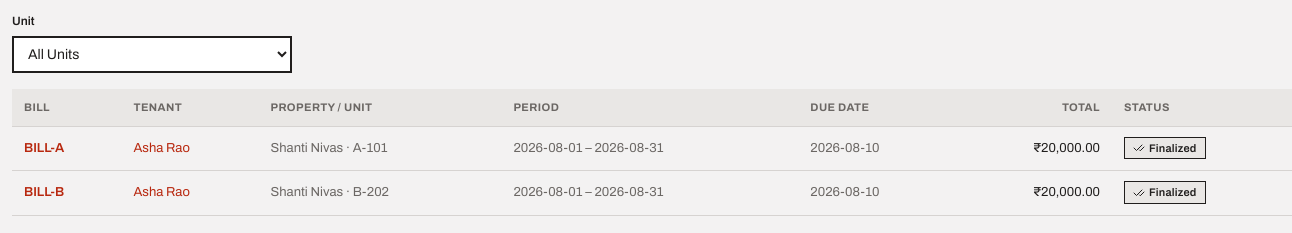
it: TenantBillsPanel — P6.3-E: tenant-wide aggregate by default, Unit filter as an option, never duplicated data › filters to only the selected unit's bills, without re-fetching or duplicating any bill row
Select "Shanti Nivas · A-101" in the dropdown labelled "Unit" at (152, 54), box [12,36,292,73]
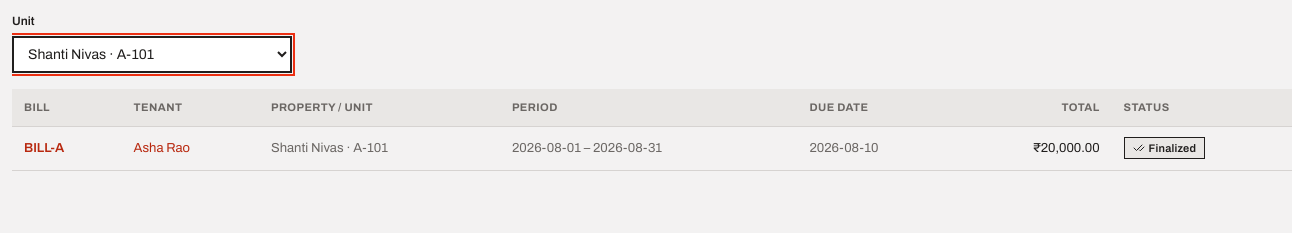
Check: the link "BILL-A" is shown, box [24,141,64,155]
Check: the link "BILL-B" is gone
